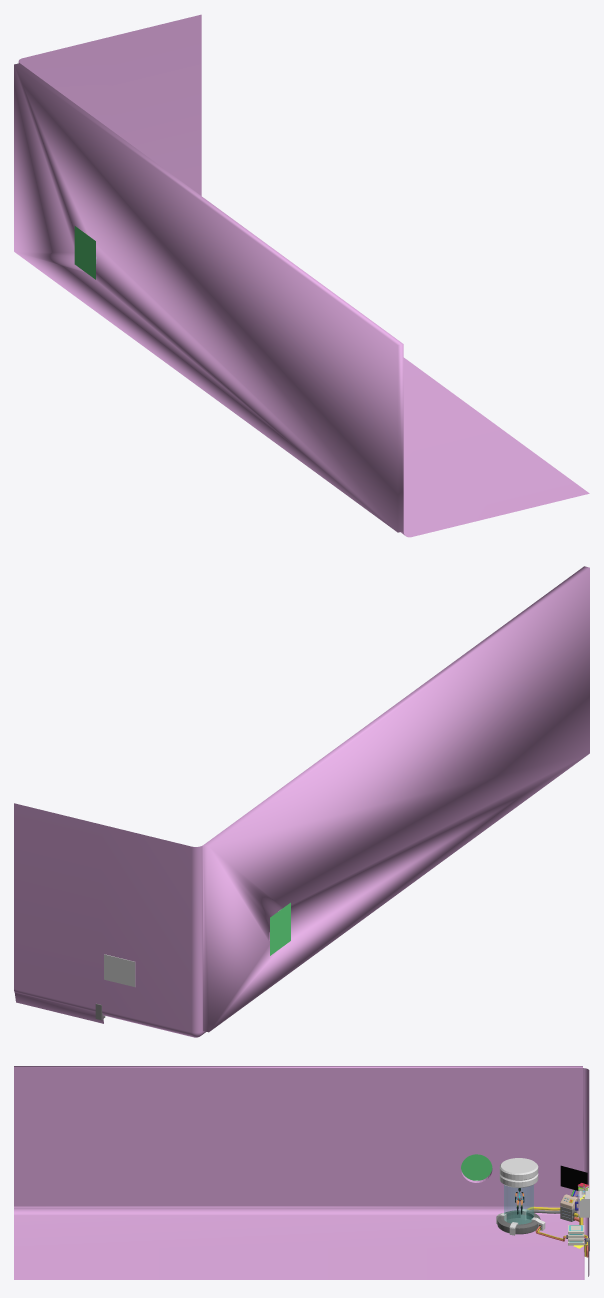
The model's file is seconsEsV2.glb.
3 renders of one model, top to bottom at view 1: azimuth 30°, elevation 25°; view 2: azimuth 150°, elevation 25°; view 3: azimuth 270°, elevation 25°, orthographic. The views are drawn at different scales.
Parts seen in each view (by area): view 1: paredes, Portal; view 2: paredes, casillero, Portal; view 3: paredes, base, cupula, Portal, SMART, casillero.
Part boxes in pixels (bbox=[...]): paredes: bbox=[14, 14, 589, 537]; Portal: bbox=[74, 226, 95, 279]; paredes: bbox=[14, 566, 589, 1037]; casillero: bbox=[104, 954, 135, 986]; Portal: bbox=[270, 902, 290, 955]; paredes: bbox=[14, 1066, 589, 1279]; base: bbox=[496, 1158, 545, 1235]; cupula: bbox=[504, 1185, 533, 1224]; Portal: bbox=[461, 1154, 492, 1180]; SMART: bbox=[560, 1165, 587, 1190]; casillero: bbox=[575, 1187, 589, 1217].
Size of the model in its own units: 10.4 by 10.37 by 36.35.
Materials: 43 (1 with a texture image).
